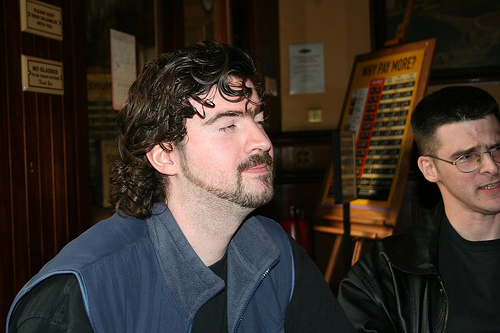without_mask: (141, 58, 295, 228), (410, 103, 500, 244)
